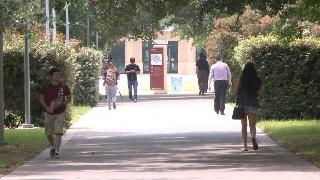person - v3 P: (40, 68, 71, 158), (234, 63, 263, 150), (209, 54, 232, 114), (103, 63, 119, 110), (125, 58, 140, 102), (196, 54, 208, 95)
